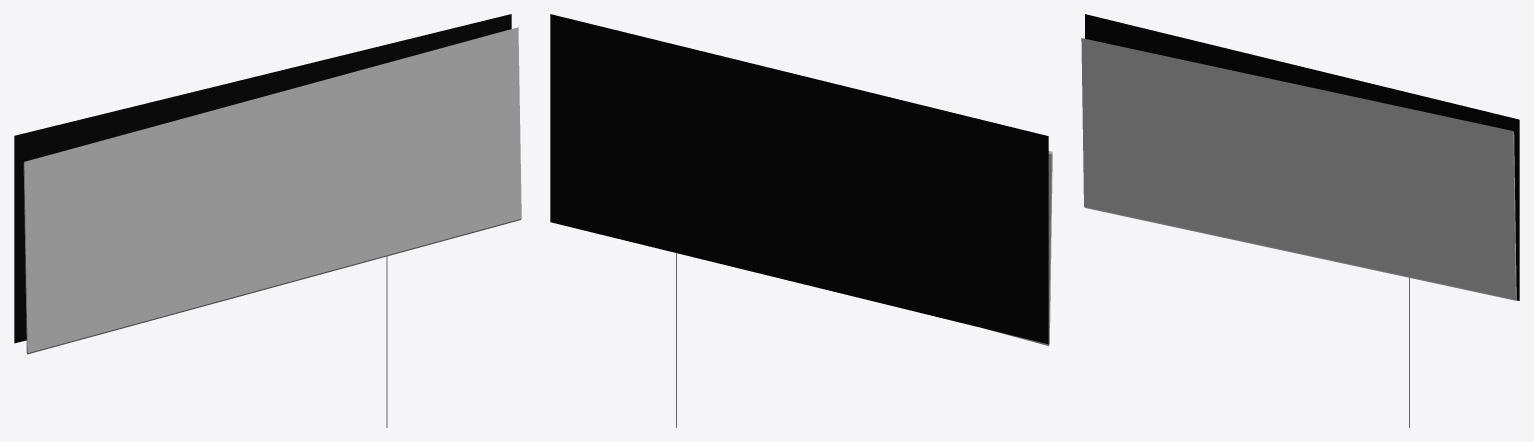
Rendered from s300Sign.obj.
The picture shows the model from 3 angles, left to right: view 1: azimuth 30°, elevation 25°; view 2: azimuth 150°, elevation 25°; view 3: azimuth 330°, elevation 25°; orthographic projection. The views are drawn at different scales.
Parts seen in each view (by area): view 1: Cube.002, Plane; view 2: Plane, Cube.002; view 3: Cube.002, Plane.
Boxes of the visible parts, box(x1,y1,x2,y2) form: Cube.002: box(23, 27, 521, 354); Plane: box(14, 14, 511, 343); Plane: box(550, 14, 1048, 344); Cube.002: box(986, 151, 1052, 345); Cube.002: box(1081, 38, 1516, 300); Plane: box(1085, 14, 1519, 300).
Bounding box in the file's own units: 201 × 147 × 5.03.
